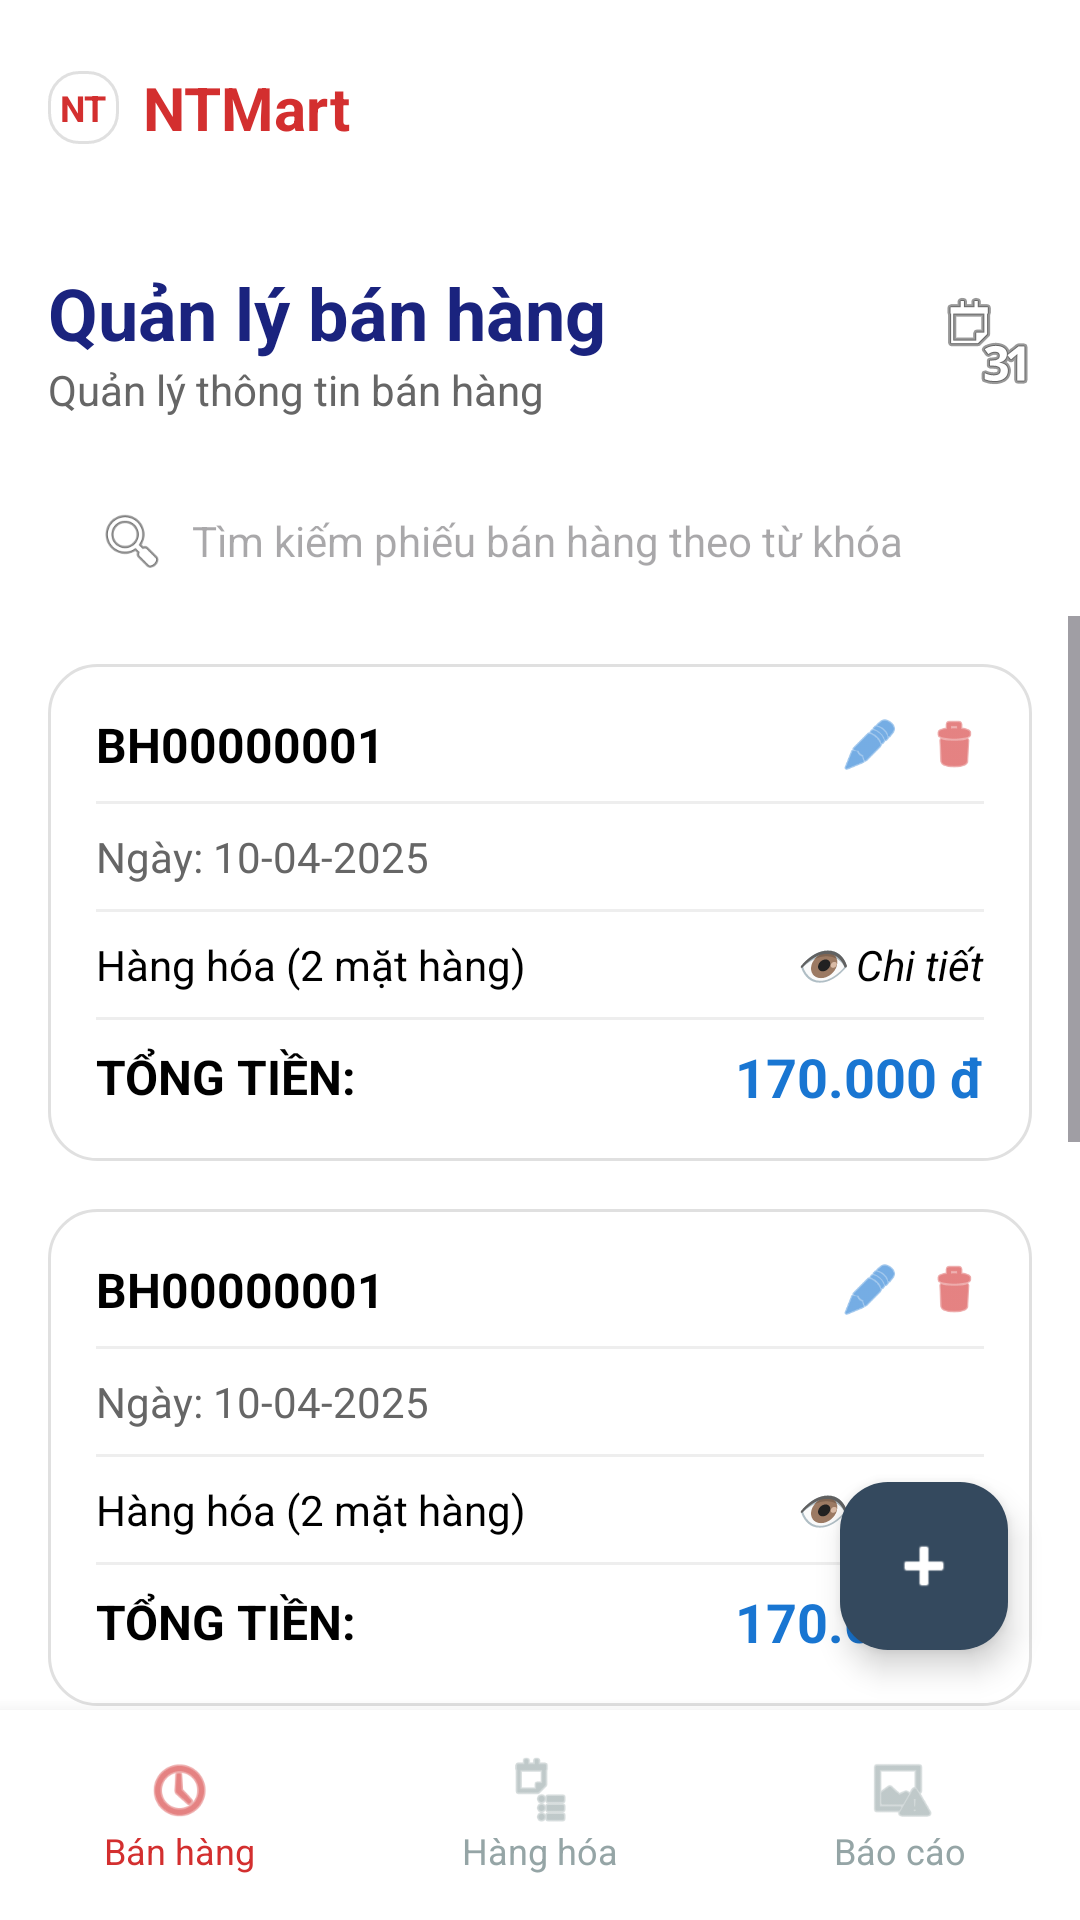

Where to tap for icons on this 1080px×1920px app screen, as (x,y):
Add sale ticket: (924,1566)
Calendar: (987,341)
delete: (954,744), (954,1289)
edit: (869,744), (869,1289)
Search icon: (132,541)
